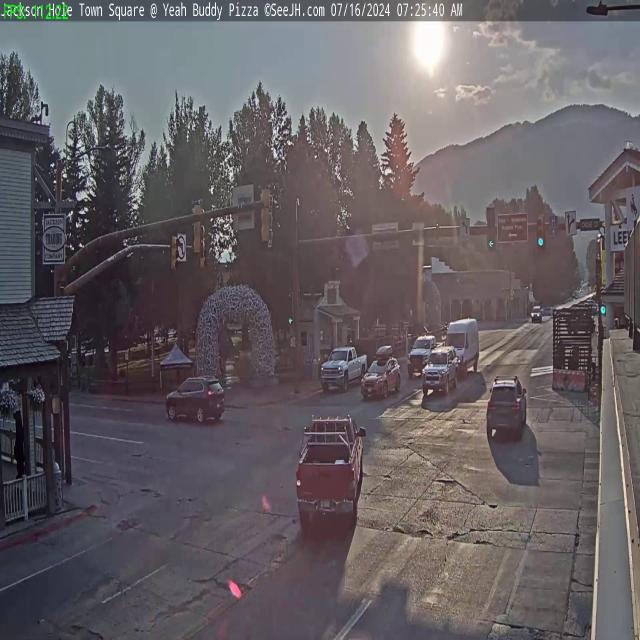pickup: (296, 411, 365, 524), (321, 346, 367, 391), (407, 334, 438, 374)
suv: (167, 375, 226, 430), (486, 378, 526, 448), (362, 355, 400, 402), (424, 347, 460, 394)
traffic light: (258, 186, 273, 248), (191, 196, 204, 256), (487, 208, 497, 253), (169, 233, 179, 270), (537, 215, 546, 251), (200, 236, 208, 268)
van: (446, 319, 480, 374)
